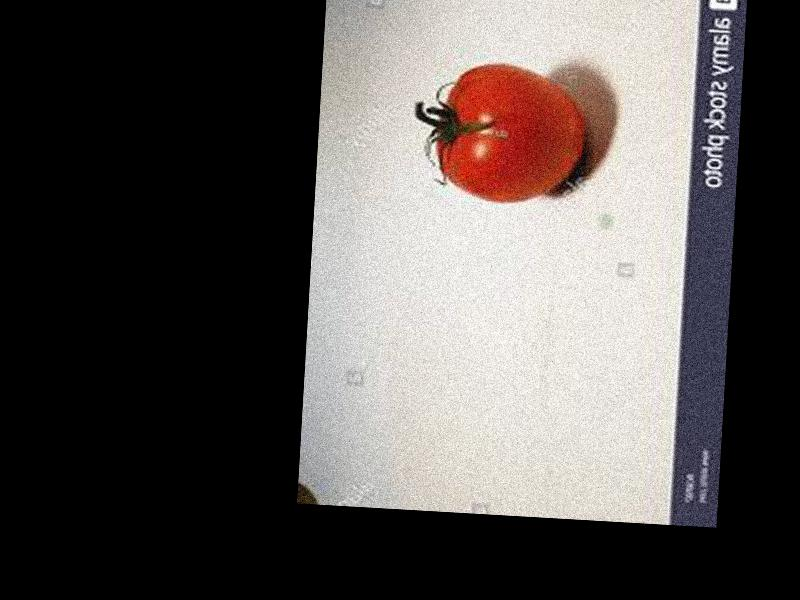Tomato: (435, 62, 589, 207)
